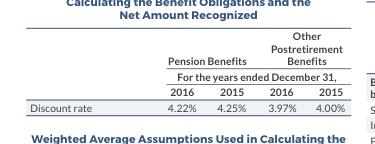table: (29, 29, 344, 113)
table column: (29, 29, 128, 113), (128, 29, 205, 113), (205, 29, 256, 113), (256, 29, 305, 113), (305, 29, 344, 113)
table column header: (29, 29, 344, 99)
table row: (29, 29, 344, 67), (29, 67, 344, 83), (29, 83, 344, 99), (29, 99, 344, 113)
table spanning cell: (128, 29, 256, 67), (128, 67, 344, 83), (256, 29, 344, 67)
